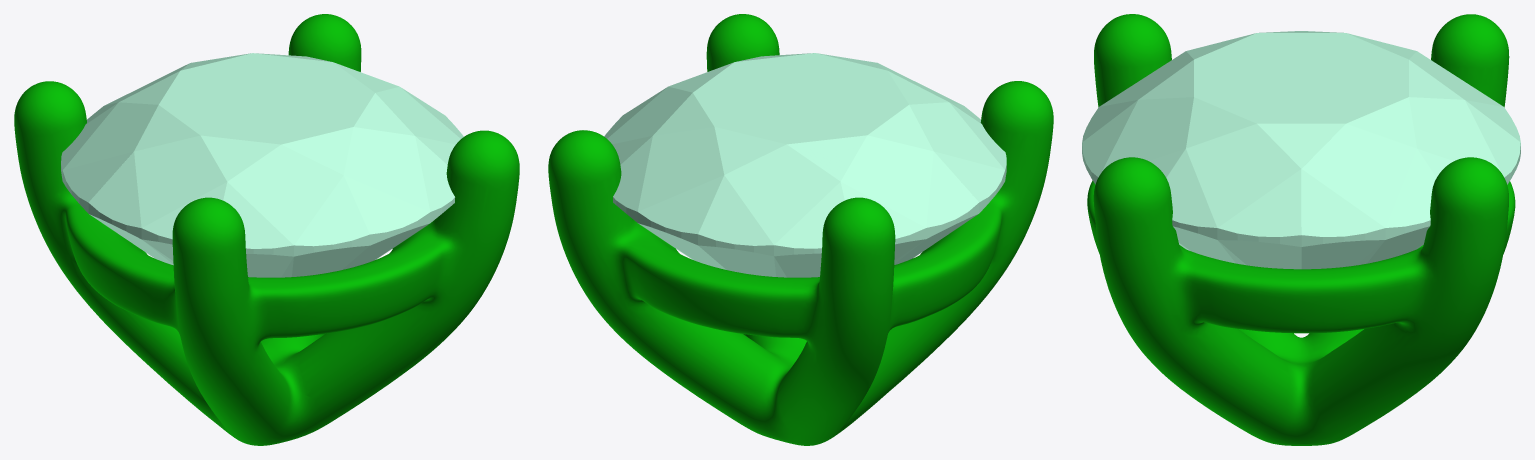
3 renders of one model, left to right at view 1: azimuth 30°, elevation 25°; view 2: azimuth 150°, elevation 25°; view 3: azimuth 270°, elevation 25°, orthographic. The views are drawn at different scales.
Parts seen in each view (by area): view 1: Metal01, CS_Diamond; view 2: Metal01, CS_Diamond; view 3: Metal01, CS_Diamond.
Part boxes in pixels (box(x1,y1,x2,y2)): Metal01: box(14, 14, 519, 445); CS_Diamond: box(61, 53, 463, 277); Metal01: box(548, 14, 1053, 445); CS_Diamond: box(604, 53, 1006, 277); Metal01: box(1087, 14, 1515, 445); CS_Diamond: box(1082, 31, 1520, 269).
Bounding box in the file's own units: 6 × 5.34 × 6.
